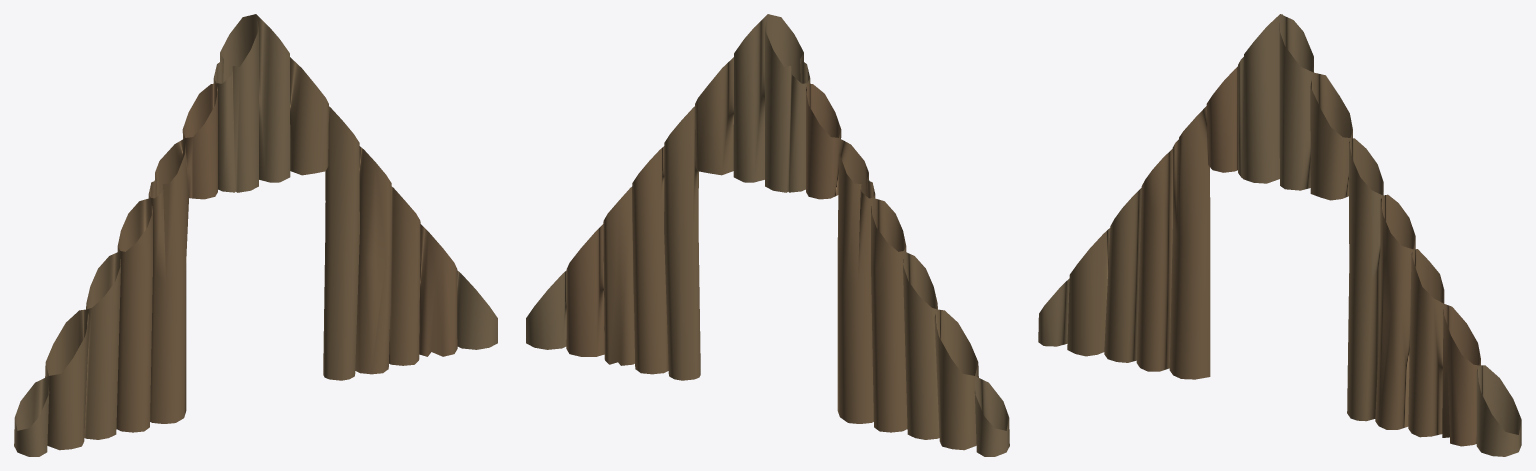
The model's file is rpgpp_ag_roof_end_01_6x5_wall_door_02a.fbx.
The picture shows the model from 3 angles, left to right: view 1: azimuth 30°, elevation 25°; view 2: azimuth 150°, elevation 25°; view 3: azimuth 330°, elevation 25°; orthographic projection.
Visible parts, largest first — view 1: rpgpp_ag_roof_end_01_6x5_wall_door_02a; view 2: rpgpp_ag_roof_end_01_6x5_wall_door_02a; view 3: rpgpp_ag_roof_end_01_6x5_wall_door_02a.
Part boxes in pixels (x1,y1,x2,y2): rpgpp_ag_roof_end_01_6x5_wall_door_02a: (14,14,497,456); rpgpp_ag_roof_end_01_6x5_wall_door_02a: (526,14,1009,456); rpgpp_ag_roof_end_01_6x5_wall_door_02a: (1038,14,1521,456).
Bounding box in the file's own units: 6 × 4.57 × 0.4626.
